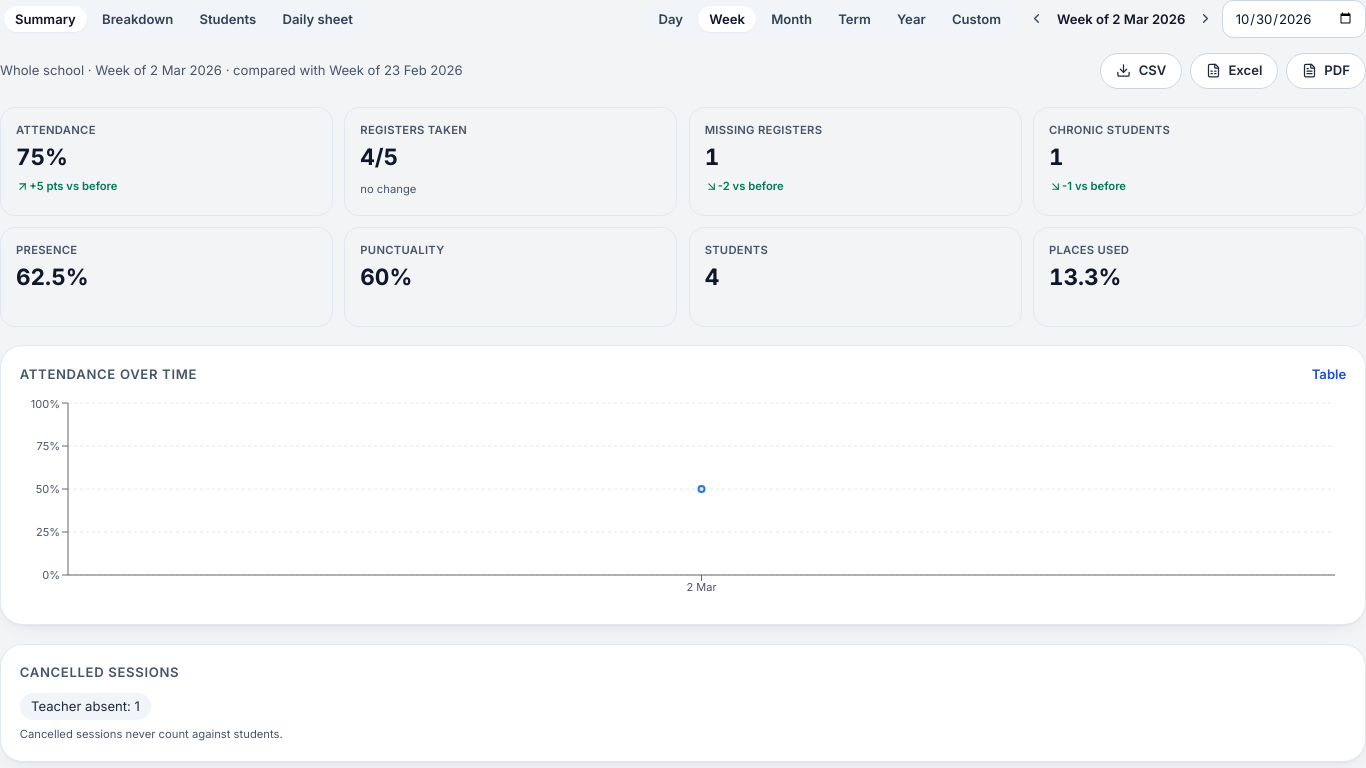
Test: office-hours reports › breaks down by teacher with links, then lists chronic students
The width and height of the screenshot is (1366, 768).
expect the text "75%" is shown: met, box [16,143,68,170]
Click the tab "Breakdown": {"x": 138, "y": 19} [91,6,184,32]
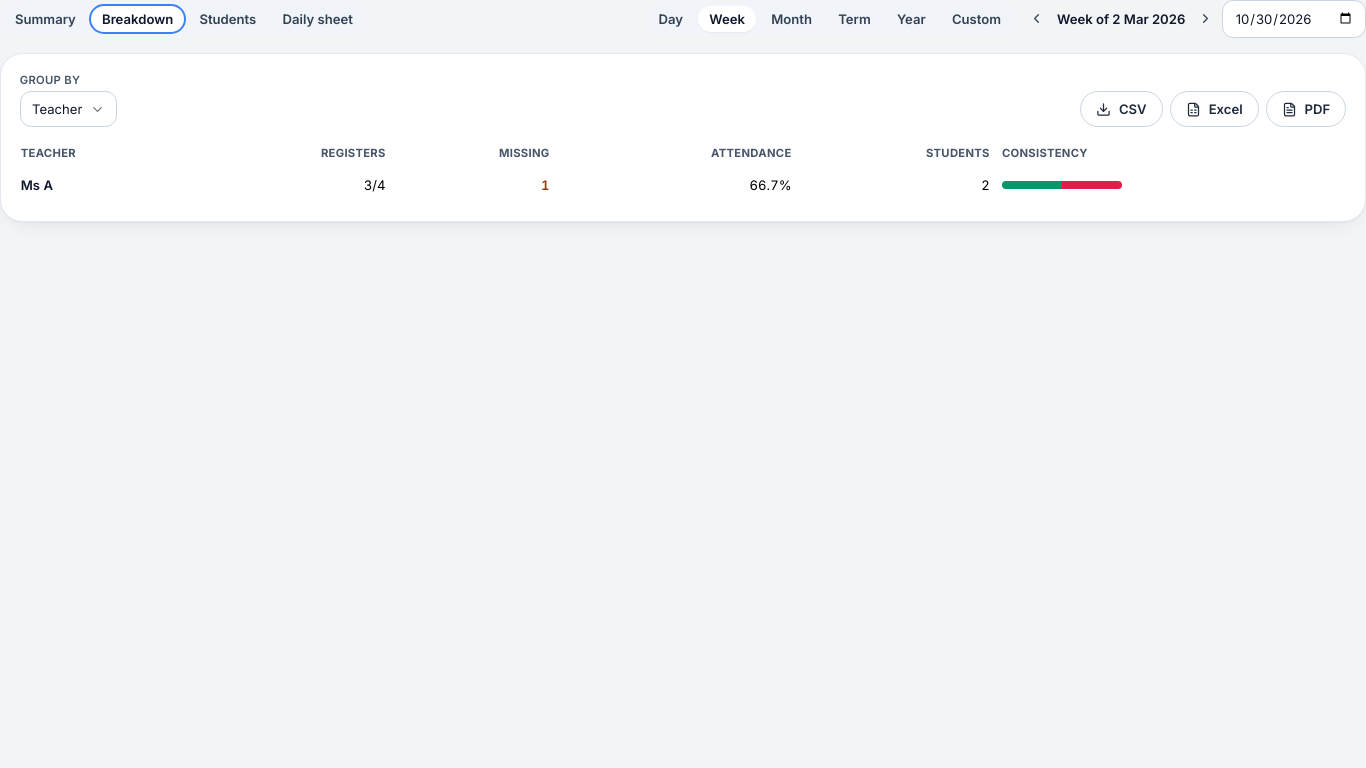
Select "Class" in the dropdown labelled "Group by": {"x": 50, "y": 80} [20,72,80,86]
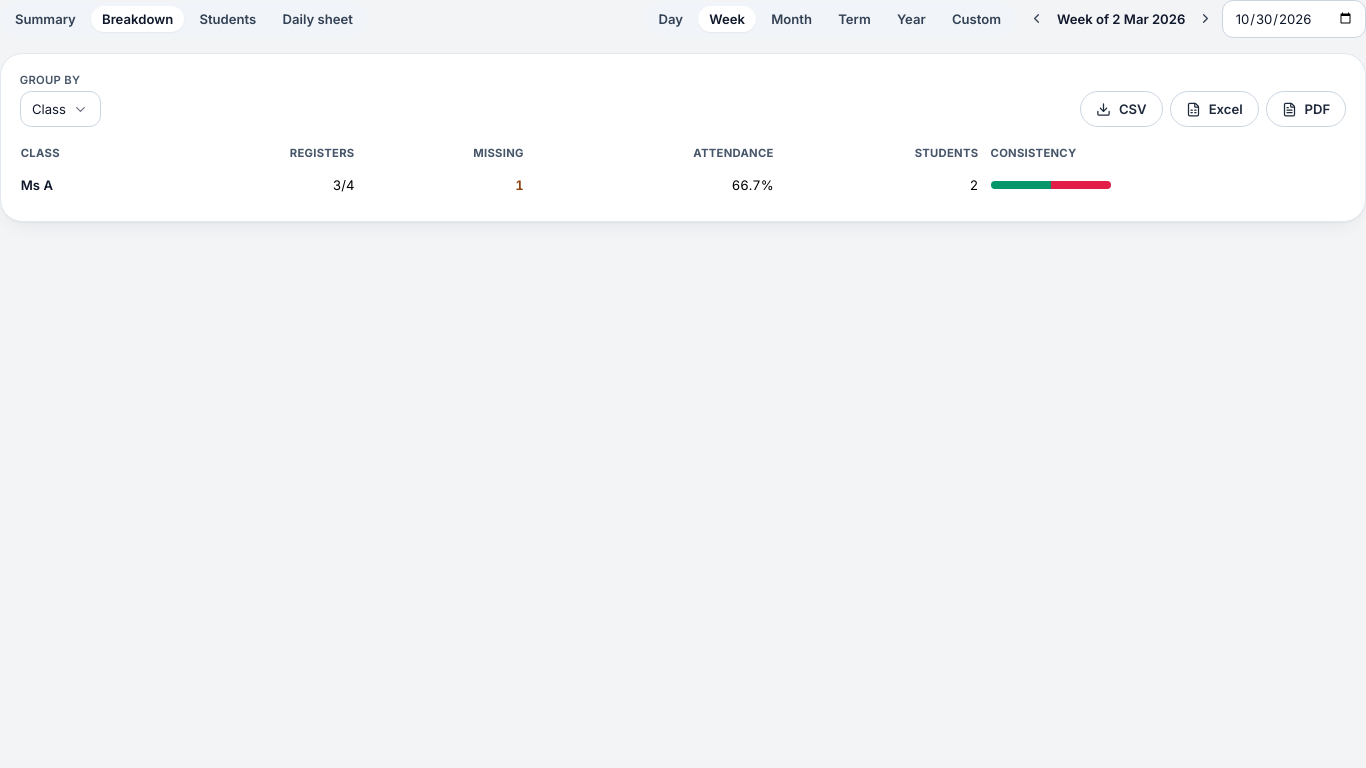
Click the tab "Students": {"x": 228, "y": 19} [188,6,268,32]
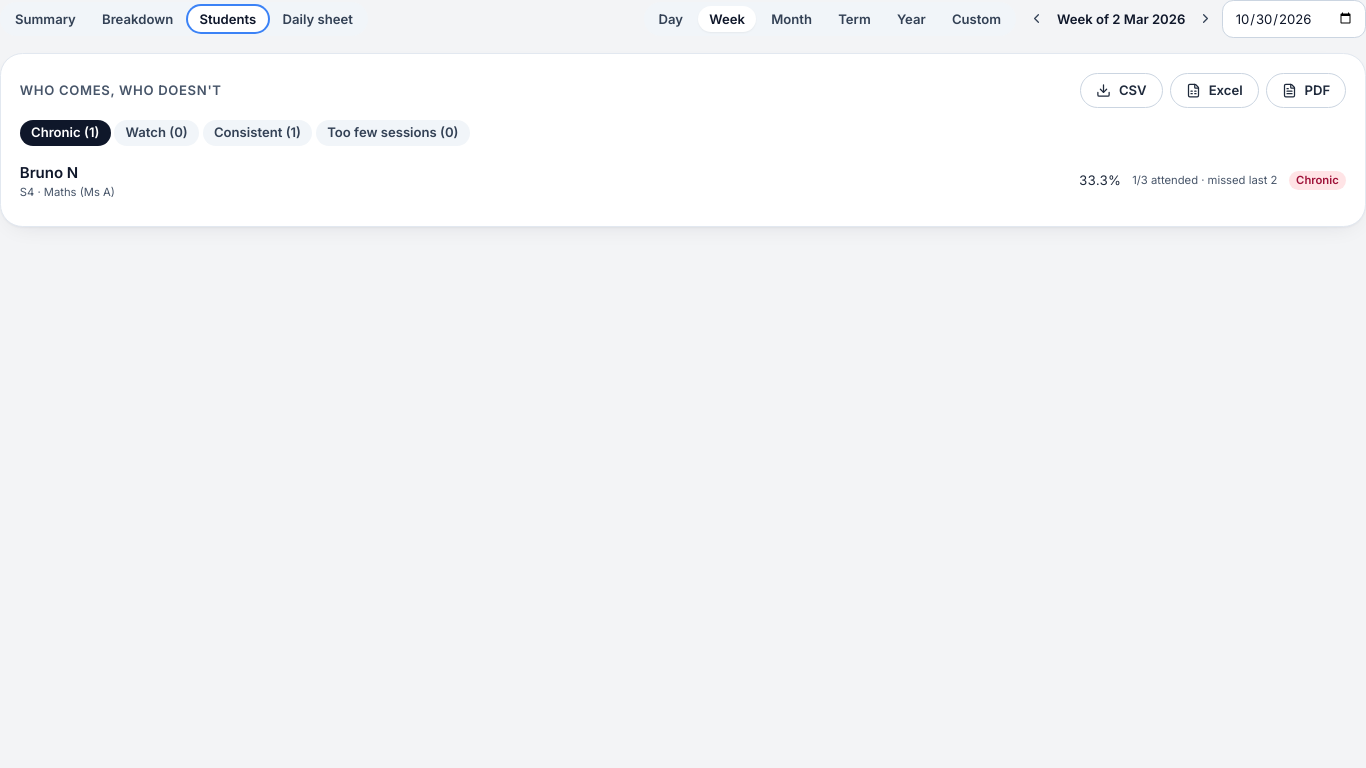
expect the text "1/3 attended · missed last 2" is shown: met, box [1132,173,1277,188]
Click the tab "Consistent (1)": {"x": 257, "y": 133} [203,120,312,146]
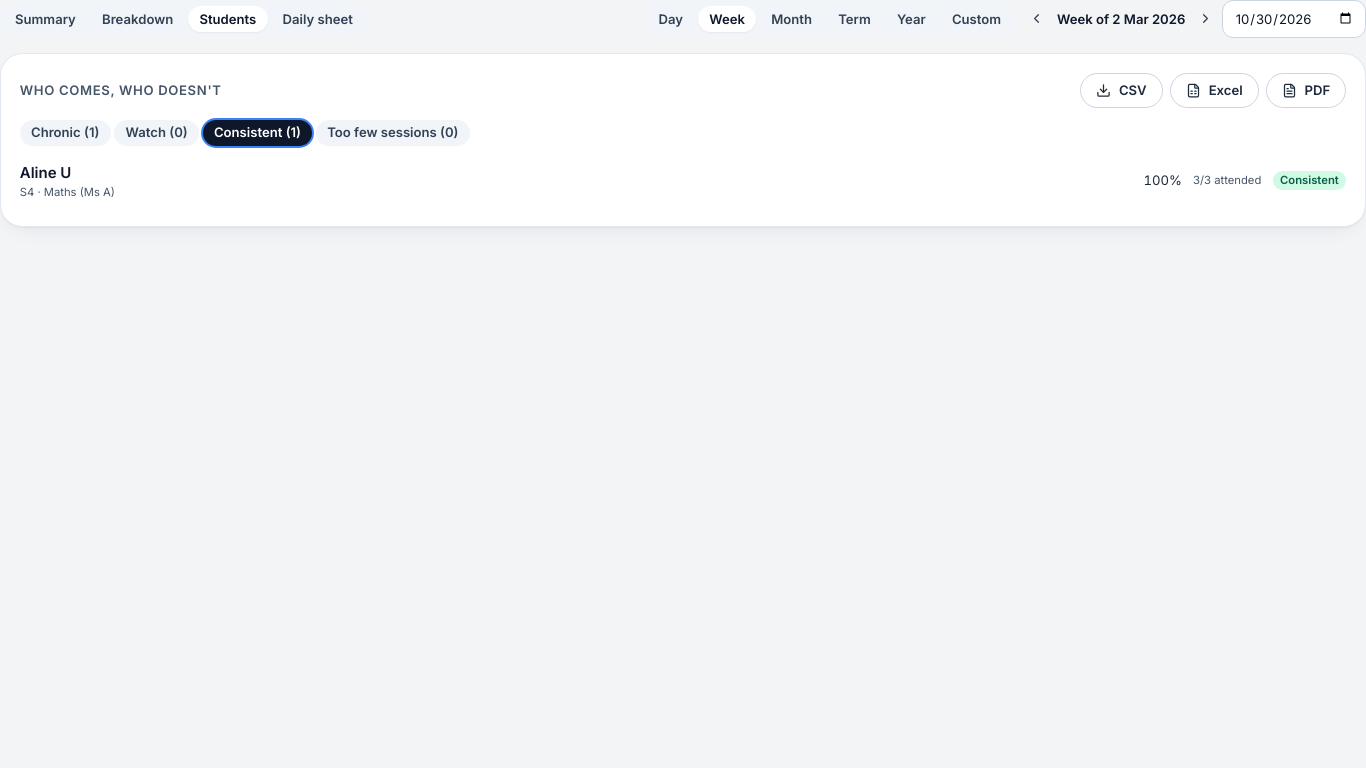
expect the link "Aline U" is shown: met, box [20,163,71,182]
